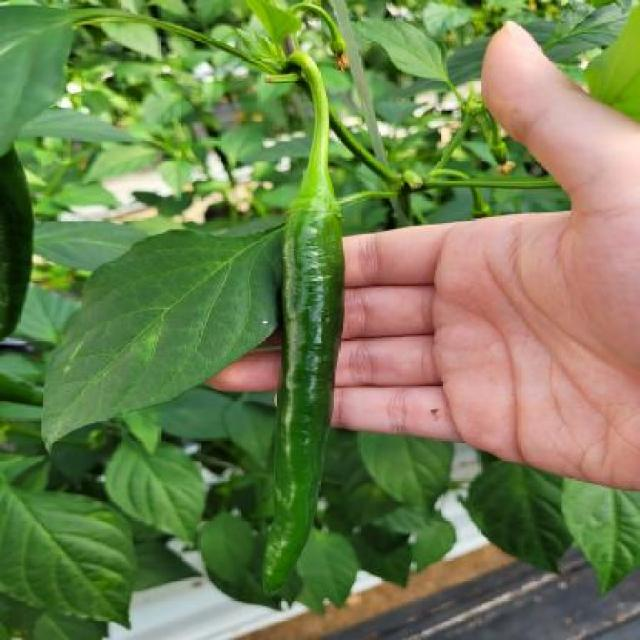green chilli: (263, 211, 346, 597)
